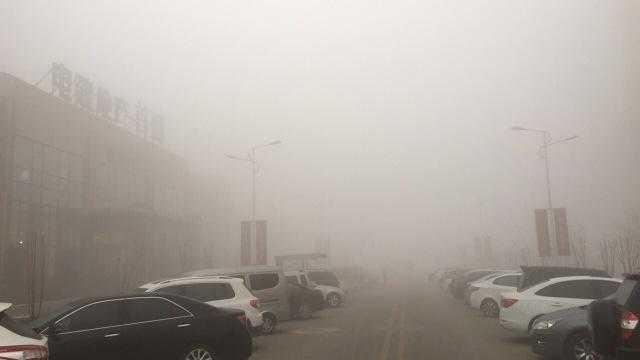car: (1, 293, 253, 360), (497, 271, 640, 348), (527, 269, 640, 360), (514, 261, 638, 340), (115, 275, 264, 337), (164, 266, 289, 323), (466, 270, 592, 320), (201, 270, 326, 320), (449, 267, 551, 304), (277, 267, 346, 310)
